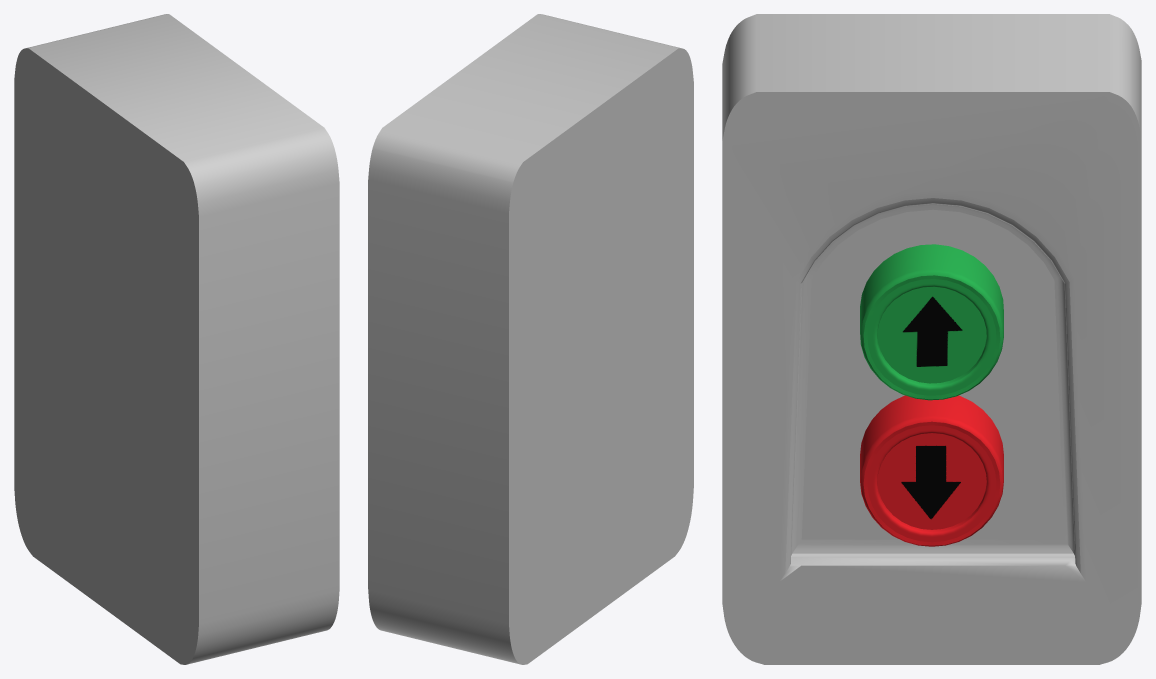
File: remote3.fbx
The picture shows the model from 3 angles, left to right: view 1: azimuth 30°, elevation 25°; view 2: azimuth 150°, elevation 25°; view 3: azimuth 270°, elevation 25°; orthographic projection. The views are drawn at different scales.
Parts seen in each view (by area): view 1: Cube.002; view 2: Cube.002; view 3: Cube.002, Cylinder.006, Cylinder.007.
Boxes of the visible parts, box(x1,y1,x2,y2) form: Cube.002: box(14, 14, 339, 664); Cube.002: box(368, 14, 693, 664); Cube.002: box(722, 14, 1141, 664); Cylinder.006: box(860, 244, 1003, 400); Cylinder.007: box(860, 395, 1003, 546).
Bounding box in the file's own units: 66.63 × 188 × 124.
